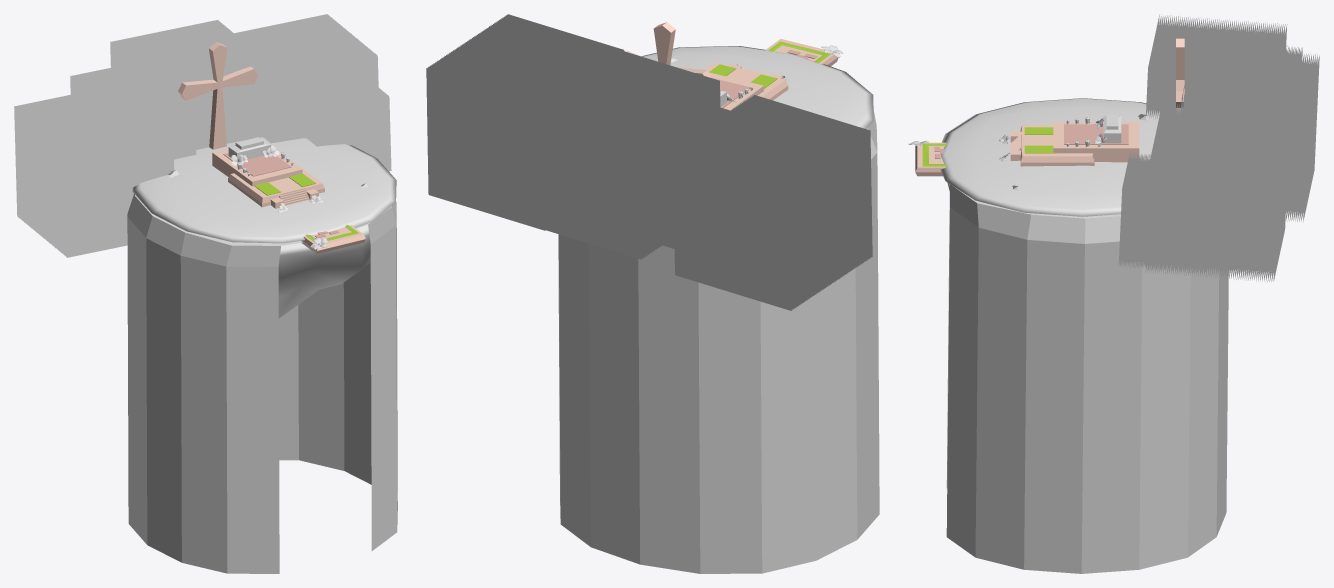
File: isla religiosa.fbx
3 views of the same model, side by side, from view 1: azimuth 30°, elevation 25°; view 2: azimuth 150°, elevation 25°; view 3: azimuth 270°, elevation 25° (orthographic). The views are drawn at different scales.
Visible parts, largest first — view 1: agua, Cloud (Collection Instance).005|Original Cloud.004|Dupli|, Cube, Cloud (Collection Instance).001|Original Cloud|Dupli|, Cloud (Collection Instance).007|Original Cloud.006|Dupli|, Cloud (Collection Instance).003|Original Cloud.002|Dupli|, Cubo.053, Cloud (Collection Instance).006|Original Cloud.005|Dupli|, Cruz, Cube.003, Cube.002, Cloud (Collection Instance).004|Original Cloud.003|Dupli| (+3 smaller); view 2: agua, Cloud (Collection Instance).005|Original Cloud.004|Dupli|, Cloud (Collection Instance).001|Original Cloud|Dupli|, Cloud (Collection Instance).007|Original Cloud.006|Dupli|, Cloud (Collection Instance).006|Original Cloud.005|Dupli|, Cube, Cruz, Cube.003, Cube.001; view 3: agua, Cloud (Collection Instance).007|Original Cloud.006|Dupli|, Cube, Cloud (Collection Instance).001|Original Cloud|Dupli|, Cloud (Collection Instance).003|Original Cloud.002|Dupli|, Cloud (Collection Instance).005|Original Cloud.004|Dupli|, Cube.002, Cube.003, Cloud (Collection Instance).006|Original Cloud.005|Dupli|, Cube.004, Cube.001, Cruz (+1 smaller).
Part boxes in pixels (<box>): agua: <box>127,194,397,573</box>; Cloud (Collection Instance).005|Original Cloud.004|Dupli|: <box>14,93,174,257</box>; Cube: <box>132,137,396,243</box>; Cloud (Collection Instance).001|Original Cloud|Dupli|: <box>110,20,267,149</box>; Cloud (Collection Instance).007|Original Cloud.006|Dupli|: <box>234,14,378,143</box>; Cloud (Collection Instance).003|Original Cloud.002|Dupli|: <box>305,87,391,171</box>; Cubo.053: <box>278,225,370,318</box>; Cloud (Collection Instance).006|Original Cloud.005|Dupli|: <box>70,66,156,116</box>; Cruz: <box>178,42,258,149</box>; Cube.003: <box>228,160,324,207</box>; Cube.002: <box>212,146,302,186</box>; Cloud (Collection Instance).004|Original Cloud.003|Dupli|: <box>172,121,196,159</box>; agua: <box>558,110,879,573</box>; Cloud (Collection Instance).005|Original Cloud.004|Dupli|: <box>674,95,872,310</box>; Cloud (Collection Instance).001|Original Cloud|Dupli|: <box>524,45,720,259</box>; Cloud (Collection Instance).007|Original Cloud.006|Dupli|: <box>426,14,624,230</box>; Cloud (Collection Instance).006|Original Cloud.005|Dupli|: <box>653,105,765,254</box>; Cube: <box>642,46,873,129</box>; Cruz: <box>625,22,710,77</box>; Cube.003: <box>705,62,788,100</box>; Cube.001: <box>765,39,838,66</box>; agua: <box>946,184,1228,573</box>; Cloud (Collection Instance).007|Original Cloud.006|Dupli|: <box>1145,103,1290,282</box>; Cube: <box>940,98,1159,216</box>; Cloud (Collection Instance).001|Original Cloud|Dupli|: <box>1181,45,1319,222</box>; Cloud (Collection Instance).003|Original Cloud.002|Dupli|: <box>1118,153,1209,272</box>; Cloud (Collection Instance).005|Original Cloud.004|Dupli|: <box>1146,14,1287,118</box>; Cube.002: <box>1053,122,1139,162</box>; Cube.003: <box>1020,125,1094,166</box>; Cloud (Collection Instance).006|Original Cloud.005|Dupli|: <box>1206,40,1302,63</box>; Cube.004: <box>1064,124,1128,144</box>; Cube.001: <box>915,142,945,176</box>; Cruz: <box>1176,38,1184,114</box>.
Size of the model in its own units: 2857 by 3757 by 2953.
